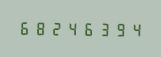eight: (33, 19, 48, 36)
four: (129, 20, 144, 38), (65, 19, 80, 36)
nine: (113, 20, 128, 37)
six: (17, 18, 32, 36), (81, 20, 96, 37)
three: (97, 20, 112, 37)
two: (49, 19, 64, 36)
